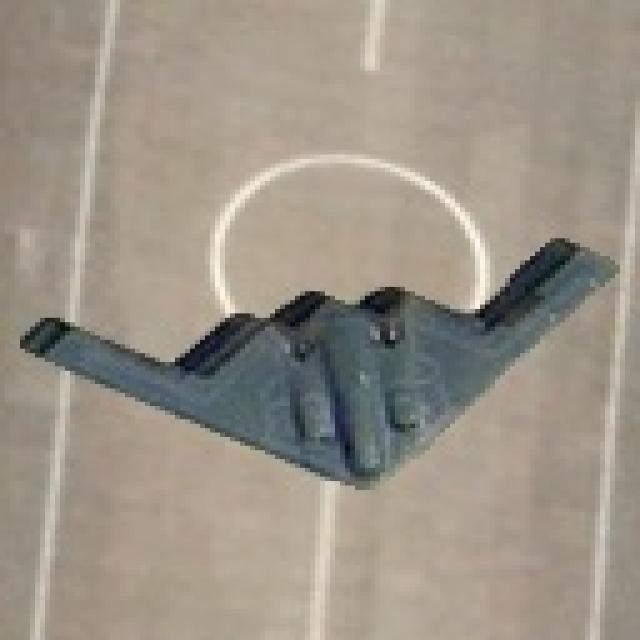B-2_TopDown: (15, 229, 620, 490)
